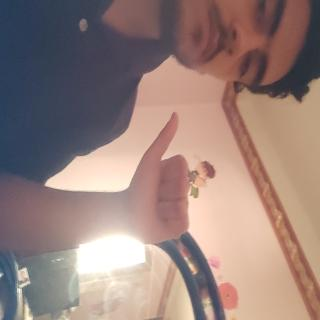DAD: (80, 164, 186, 266)
